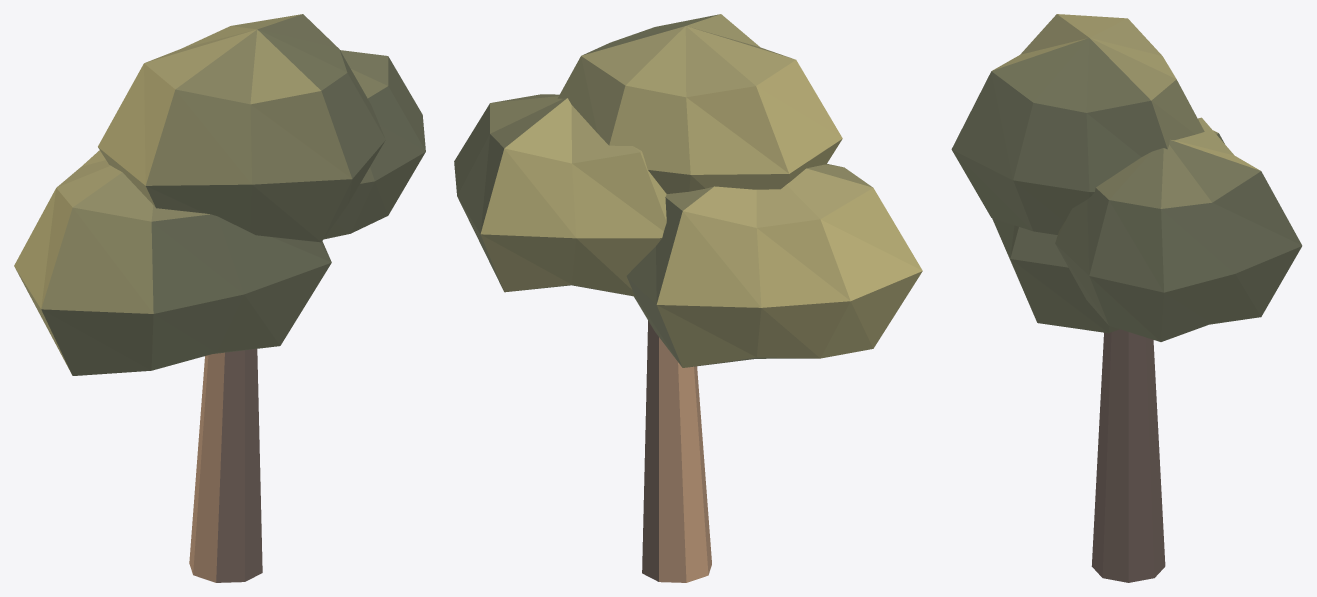
File: forage_7_summer.glb
The picture shows the model from 3 angles, left to right: view 1: azimuth 30°, elevation 25°; view 2: azimuth 150°, elevation 25°; view 3: azimuth 270°, elevation 25°; orthographic projection. The views are drawn at different scales.
Visible parts, largest first — view 1: Rohstoff 7 · summer; view 2: Rohstoff 7 · summer; view 3: Rohstoff 7 · summer.
Part boxes in pixels (x1,y1,x2,y2): Rohstoff 7 · summer: [14, 14, 425, 582]; Rohstoff 7 · summer: [454, 14, 922, 582]; Rohstoff 7 · summer: [951, 14, 1302, 582].
Size of the model in its own units: 2.75 by 3.32 by 1.97.
